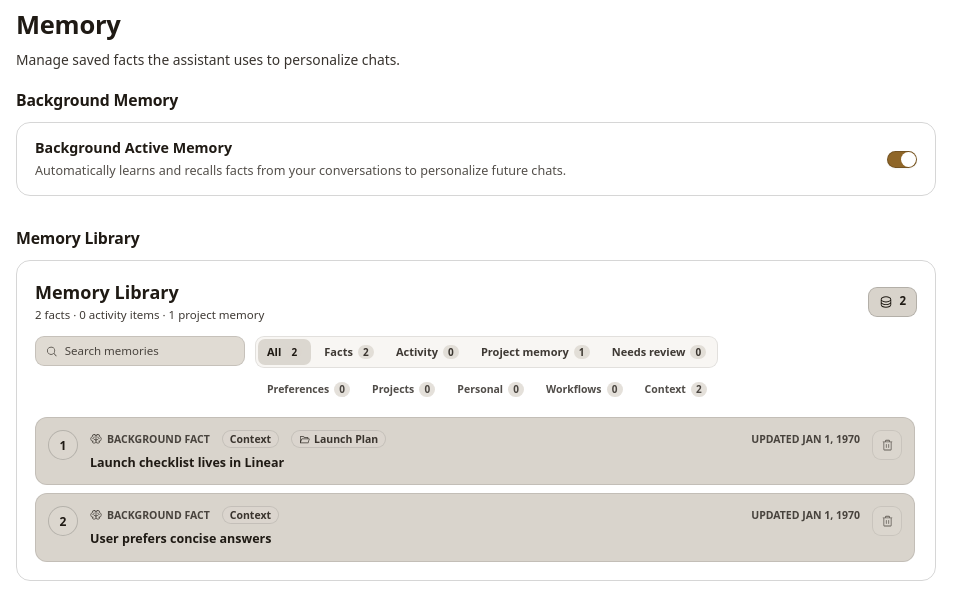
MemorySection › surfaces project-scoped memories in the extension library
This screenshot has width=953, height=598.
Expected: the text "Launch checklist lives in Linear" is shown, [90, 454, 284, 471]
Expected: the text "Launch Plan" is shown, [291, 430, 386, 448]
Click the tab "Project memory 1". click: (535, 352)
box: [472, 339, 599, 365]
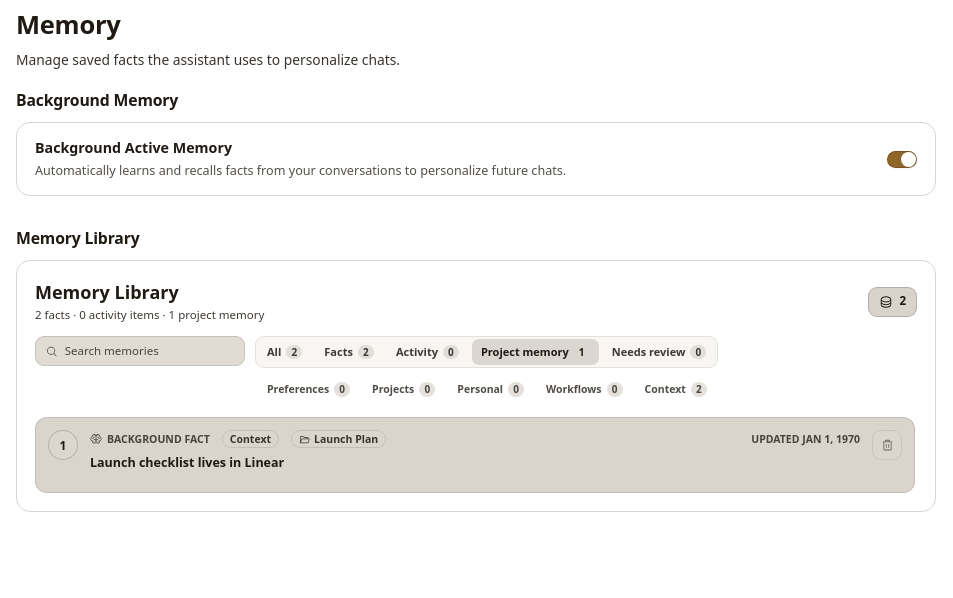
Expected: the text "Launch checklist lives in Linear" is shown, [90, 454, 284, 471]
Result: the text "User prefers concise answers" is gone
